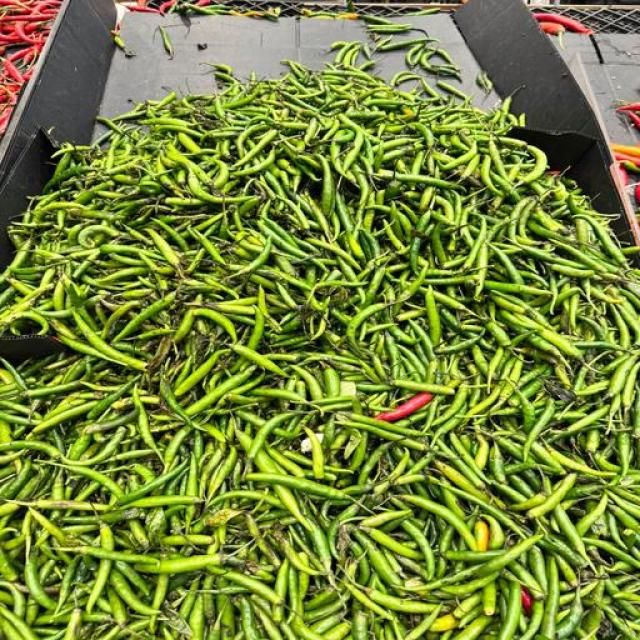organic: (0, 17, 639, 639), (0, 0, 61, 132), (73, 312, 146, 371), (399, 494, 476, 549), (568, 195, 626, 264), (185, 367, 256, 417), (114, 292, 176, 341), (119, 462, 187, 504), (209, 567, 281, 606), (170, 172, 252, 206), (478, 534, 542, 576), (247, 473, 348, 499), (174, 350, 227, 397), (345, 422, 426, 451), (528, 474, 577, 518), (132, 388, 162, 458), (33, 400, 96, 433), (110, 570, 157, 614), (87, 378, 137, 419), (248, 413, 292, 459), (554, 504, 588, 561), (232, 129, 277, 172), (258, 218, 306, 258), (523, 398, 554, 459), (547, 449, 614, 477), (68, 465, 123, 499), (403, 520, 434, 579), (345, 413, 421, 437), (24, 552, 56, 609), (434, 462, 483, 498), (232, 345, 287, 377), (365, 589, 438, 613), (75, 545, 158, 566), (327, 503, 359, 557), (367, 528, 422, 559), (274, 483, 311, 529), (282, 543, 319, 589), (159, 377, 193, 427), (583, 538, 639, 568), (345, 583, 393, 618), (138, 555, 223, 574), (347, 303, 387, 343), (375, 393, 432, 421), (540, 555, 559, 637), (432, 384, 468, 427), (234, 238, 272, 277), (207, 448, 237, 497), (85, 409, 137, 437), (540, 534, 584, 567), (100, 300, 139, 337), (465, 382, 506, 417), (575, 493, 608, 536), (194, 309, 237, 342), (87, 557, 112, 612), (498, 582, 522, 639), (340, 115, 364, 172), (538, 328, 582, 359), (29, 509, 67, 544), (0, 605, 38, 639), (533, 13, 594, 34), (595, 489, 639, 518), (379, 172, 458, 188), (462, 219, 487, 269), (557, 590, 583, 638), (163, 425, 192, 468), (607, 354, 636, 397), (0, 439, 62, 459), (189, 229, 224, 264), (115, 560, 149, 596), (290, 364, 323, 401), (148, 229, 179, 268), (233, 150, 274, 177), (235, 123, 268, 156), (532, 443, 566, 474), (603, 605, 634, 639), (319, 155, 336, 216), (520, 145, 547, 183), (273, 559, 289, 623), (442, 142, 477, 171), (25, 380, 82, 397), (305, 428, 324, 479), (425, 287, 441, 346), (130, 495, 201, 508), (360, 509, 411, 527), (453, 615, 491, 639), (488, 139, 508, 183), (453, 594, 482, 624), (392, 380, 454, 394), (522, 600, 544, 639), (435, 335, 479, 354), (3, 582, 26, 618), (250, 388, 304, 403), (622, 363, 639, 409), (484, 514, 506, 549), (139, 114, 191, 128), (240, 599, 258, 639), (580, 608, 603, 639), (367, 18, 412, 33), (308, 593, 336, 617), (445, 550, 501, 562), (489, 443, 506, 482), (189, 594, 204, 638), (68, 433, 91, 461), (617, 432, 631, 477), (0, 12, 56, 23), (487, 322, 511, 347), (512, 494, 546, 511), (292, 620, 322, 639), (152, 575, 168, 609), (324, 619, 351, 639), (609, 583, 637, 602), (474, 435, 489, 469), (163, 534, 213, 544), (482, 582, 497, 614), (324, 368, 341, 396), (3, 59, 23, 82), (178, 134, 202, 153), (15, 23, 37, 43), (33, 0, 61, 12), (614, 153, 639, 166), (539, 22, 566, 34), (477, 73, 492, 93), (522, 587, 532, 616), (128, 5, 161, 13), (618, 165, 629, 187), (159, 0, 176, 13), (620, 162, 639, 173), (0, 110, 9, 133), (627, 112, 639, 128), (617, 103, 639, 111), (23, 68, 33, 81), (634, 183, 639, 206), (197, 0, 211, 6), (137, 0, 147, 7)
